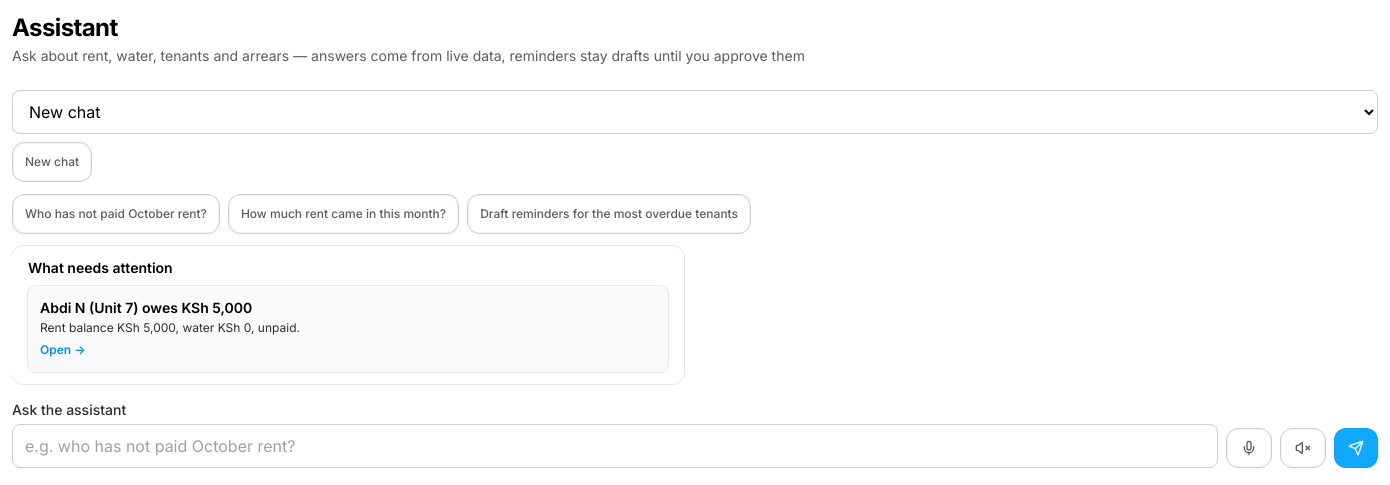
Test: Assistant threads and briefing › deleting a thread asks confirm and returns to a fresh chat
Select "October chase" in the dropdown named "Conversation" at coordinates (695, 112), box [12, 90, 1378, 134]
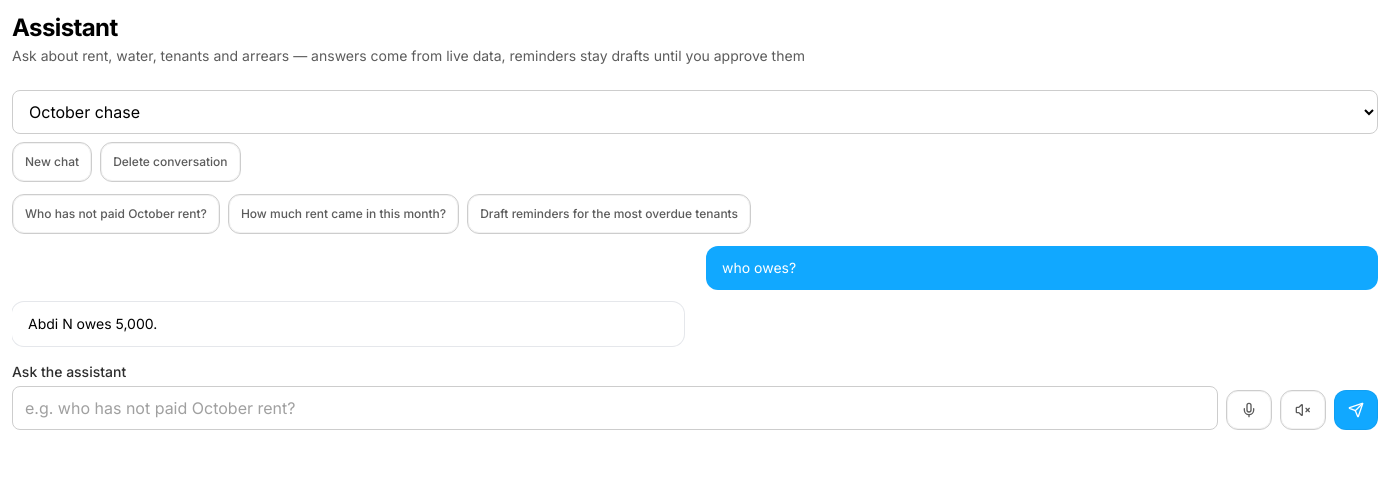
Expected: the text "who owes?" is shown, [722, 259, 796, 276]
Click the button "Delete conversation" at coordinates (170, 162), box [100, 142, 240, 182]
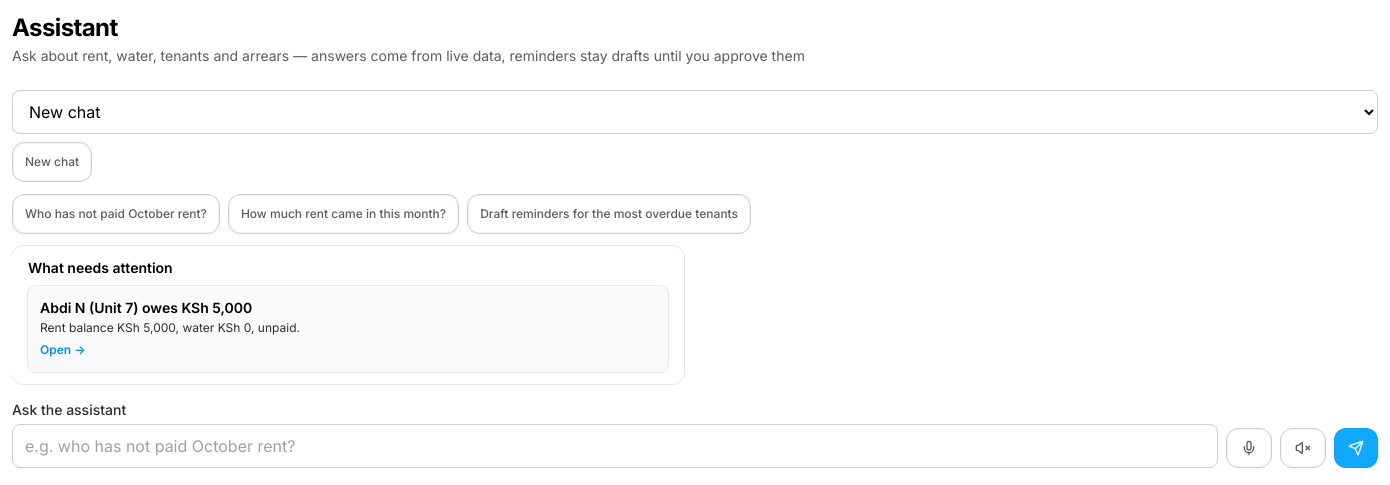
Expected: the field labelled "Ask the assistant" is empty, [12, 424, 1218, 468]
Expected: the heading "What needs attention" is shown, [28, 259, 173, 276]
Expected: the text "who owes?" is gone
